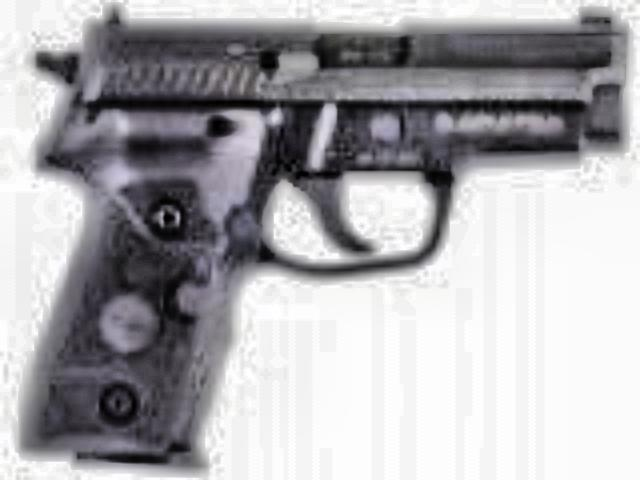pistol: (4, 0, 616, 468)
